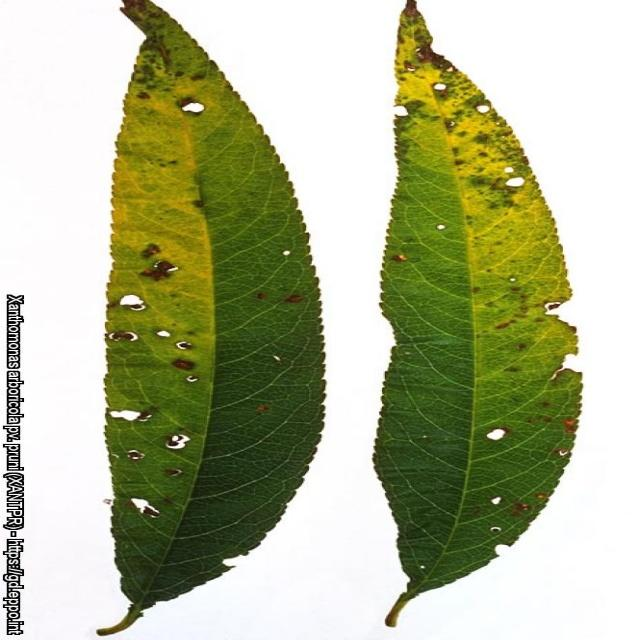shot_hole: (350, 1, 598, 636), (85, 0, 332, 636)
